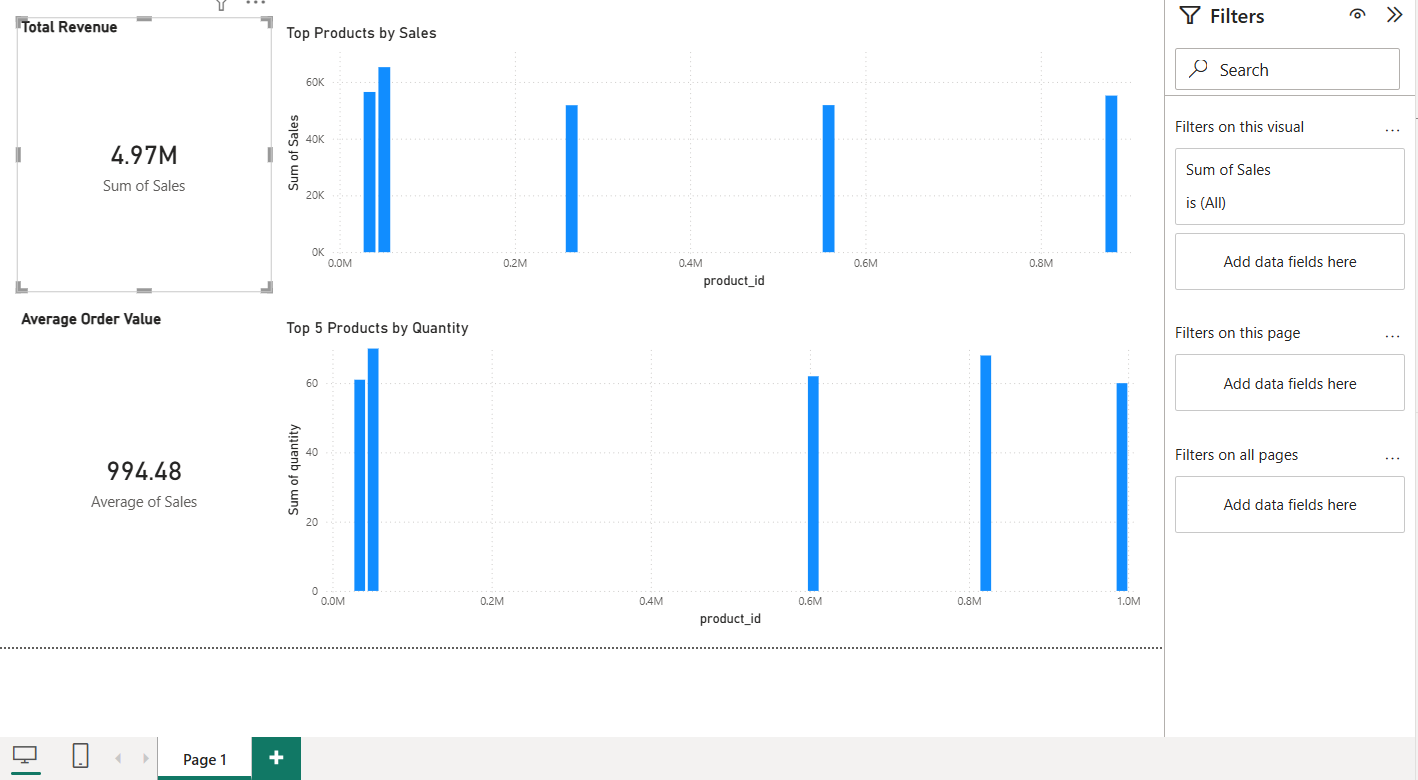

Layout of this report page (visuals, bound fields, positions):
{"tool":"powerbi","page":{"name":"Page 1","canvas":[1280,720],"ordinal":0},"visuals":[{"type":"card","title":"Total Revenue","fields":{"Values":["Sum(blinkit_final.Sales)"]},"box":[20.6,28.8,279.9,301.9],"z":0},{"type":"card","title":"Average Order Value","fields":{"Values":["Avg(blinkit_final.Sales)"]},"box":[20.6,349.9,279.9,352.7],"z":1000},{"type":"columnChart","title":"Top Products by Sales","fields":{"Y":["Sum(blinkit_final.Sales)"],"Category":["blinkit_final.product_id"]},"box":[311.5,35.7,949.6,295],"z":2000},{"type":"columnChart","title":"Top 5 Products by Quantity","fields":{"Category":["blinkit_final.product_id"],"Y":["Sum(blinkit_final.quantity)"]},"box":[311.5,359.5,949.6,343.1],"z":3000}]}

Visuals, with their boxes on the page's 1280x720 design canvas (x1, y1, x2, y2). These are canvas units, not pixel positions in the 1418x780 screenshot, which may show the page scaled, cropped or inside an application window:
"Total Revenue" card: locate(21, 29, 300, 331)
"Average Order Value" card: locate(21, 350, 300, 703)
"Top Products by Sales" columnChart: locate(312, 36, 1261, 331)
"Top 5 Products by Quantity" columnChart: locate(312, 360, 1261, 703)
